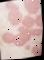plaque psoriasis: (2, 22, 43, 49), (6, 0, 42, 18), (6, 0, 25, 27), (23, 13, 43, 31), (32, 37, 43, 57), (1, 56, 33, 60)
